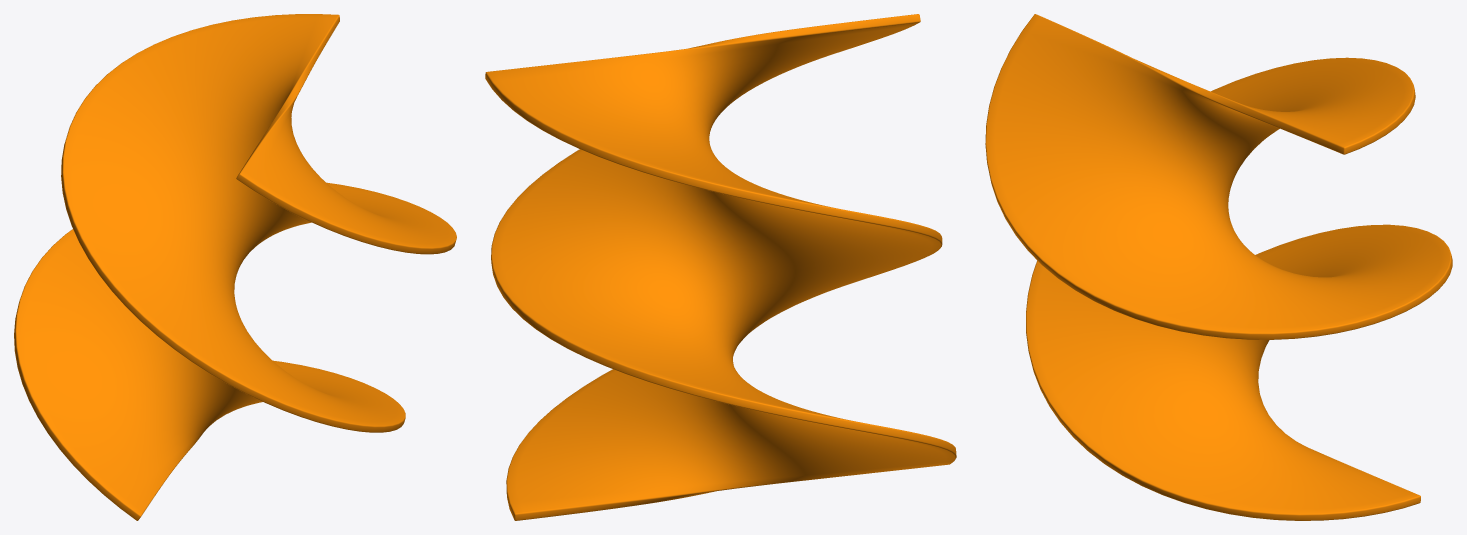
Rendered from Split.gltf.
The picture shows the model from 3 angles, left to right: view 1: azimuth 30°, elevation 25°; view 2: azimuth 150°, elevation 25°; view 3: azimuth 270°, elevation 25°; orthographic projection. The views are drawn at different scales.
Parts seen in each view (by area): view 1: Plane.016; view 2: Plane.016; view 3: Plane.016.
Boxes of the visible parts, x1,y1,x2,y2 form: Plane.016: [14, 14, 456, 520]; Plane.016: [485, 14, 956, 520]; Plane.016: [985, 14, 1452, 520].
Bounding box in the file's own units: 2.72 × 2.53 × 2.72.
